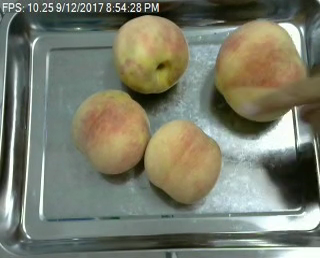Peach: (214, 17, 306, 119), (72, 88, 150, 175), (143, 118, 221, 201), (113, 13, 190, 95)
